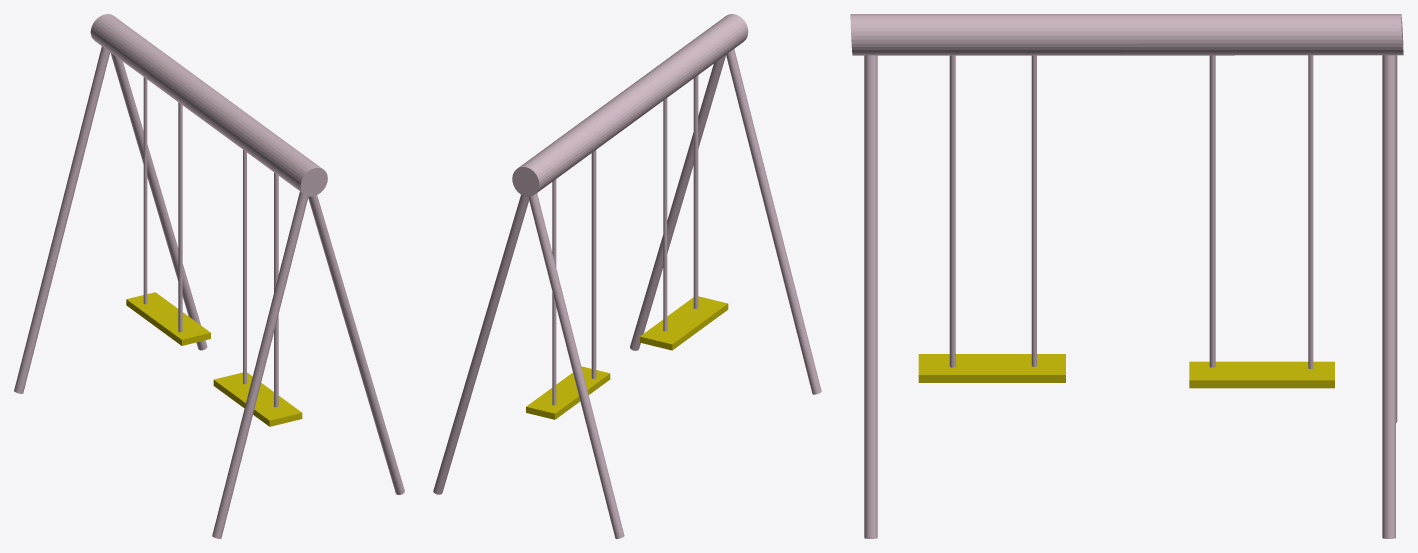
Rendered from buranko.obj.
The picture shows the model from 3 angles, left to right: view 1: azimuth 30°, elevation 25°; view 2: azimuth 150°, elevation 25°; view 3: azimuth 270°, elevation 25°; orthographic projection. The views are drawn at different scales.
Parts seen in each view (by area): view 1: Cube.003_Cube.004, Cube.002_Cube.003, Cube.001_Cube.002, Cube; view 2: Cube.003_Cube.004, Cube.002_Cube.003, Cube.001_Cube.002, Cube; view 3: Cube.003_Cube.004, Cube.002_Cube.003, Cube.
Part boxes in pixels (left/top/right/bottom): Cube.003_Cube.004: left=14, top=14, right=327, bottom=407; Cube.002_Cube.003: left=110, top=52, right=302, bottom=426; Cube.001_Cube.002: left=212, top=191, right=308, bottom=538; Cube: left=308, top=195, right=404, bottom=494; Cube.003_Cube.004: left=512, top=14, right=748, bottom=538; Cube.002_Cube.003: left=433, top=150, right=728, bottom=494; Cube.001_Cube.002: left=726, top=49, right=821, bottom=394; Cube: left=630, top=55, right=725, bottom=350; Cube.003_Cube.004: left=850, top=14, right=1403, bottom=422; Cube.002_Cube.003: left=918, top=55, right=1395, bottom=538; Cube: left=864, top=55, right=877, bottom=538.
Bounding box in the file's own units: 6.36 × 11.24 × 12.14.
